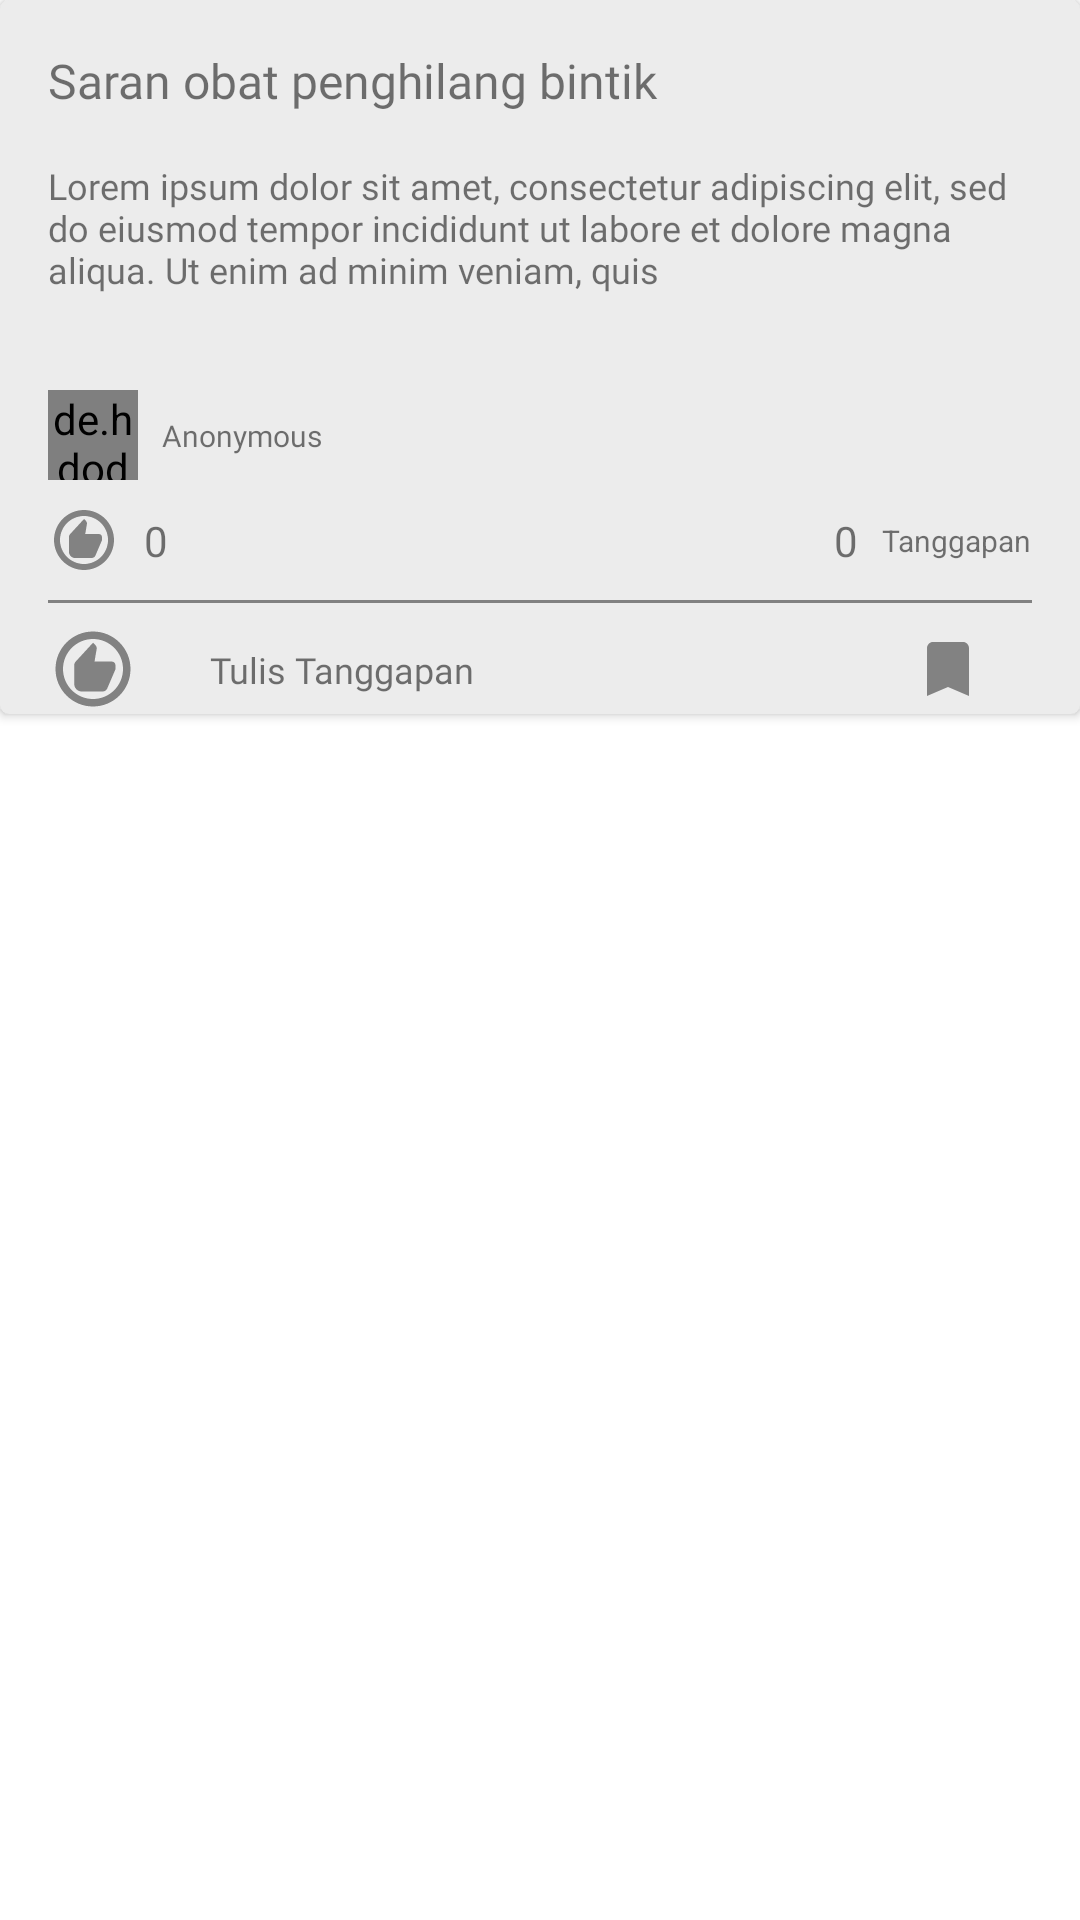

Locate icon controls on the screen. Image size 1080px x 1920px, boxes as (x1, y1, x2, y2).
bookmark: (927, 642, 969, 696)
like: (54, 510, 114, 570), (55, 631, 131, 707)
